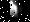person: (12, 1, 23, 18)
